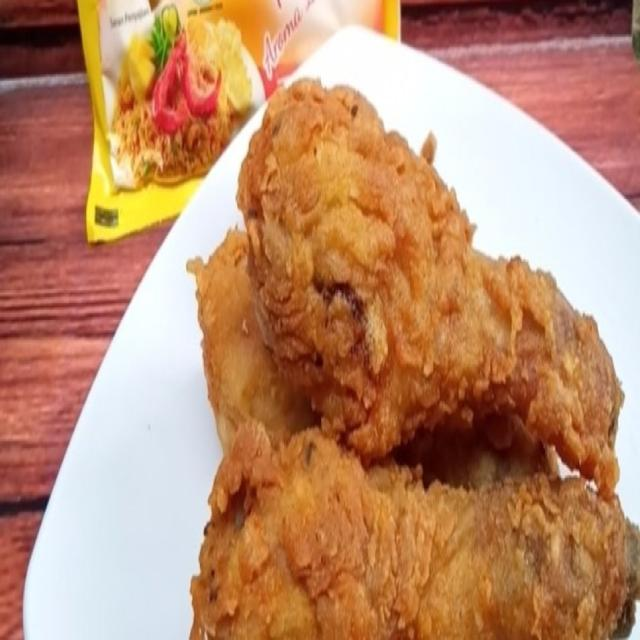Frango: (194, 80, 620, 489), (190, 428, 636, 636)
